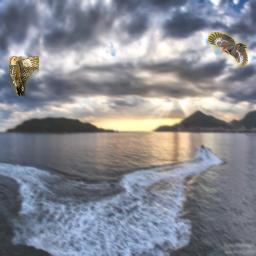Woodpecker: (208, 32, 248, 67), (9, 56, 39, 96)
